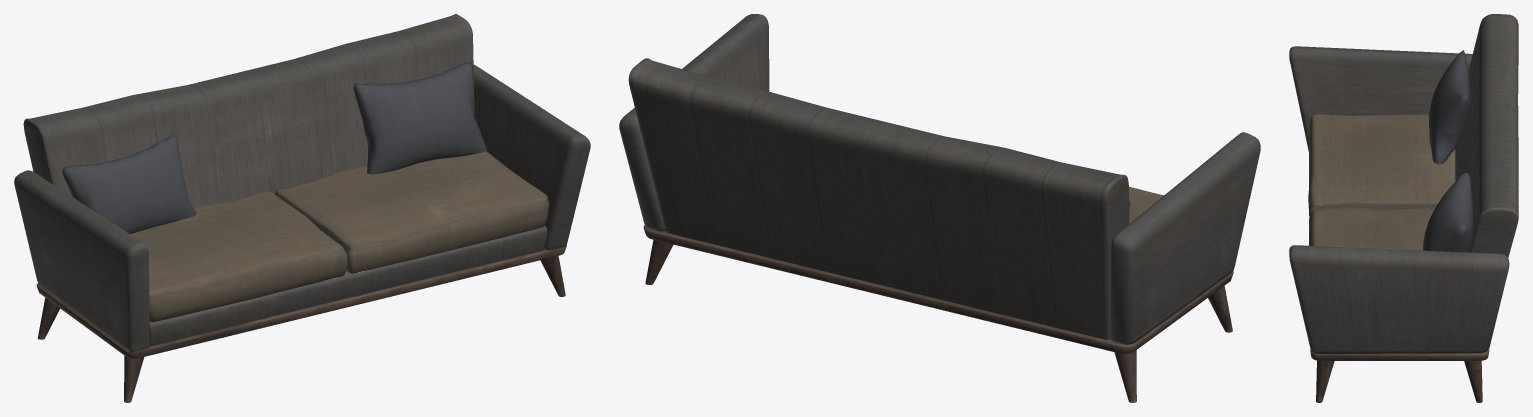
The model's file is sofa_3s_midcentury.glb.
The picture shows the model from 3 angles, left to right: view 1: azimuth 30°, elevation 25°; view 2: azimuth 150°, elevation 25°; view 3: azimuth 270°, elevation 25°; orthographic projection. The views are drawn at different scales.
Parts seen in each view (by area): view 1: fabric; view 2: fabric; view 3: fabric.
Boxes of the visible parts, x1,y1,x2,y2 form: fabric: [14, 14, 590, 402]; fabric: [619, 14, 1260, 402]; fabric: [1289, 14, 1518, 402].
Bounding box in the file's own units: 2.1 × 0.8969 × 0.9701.
Materials: 1 (1 with a texture image).
